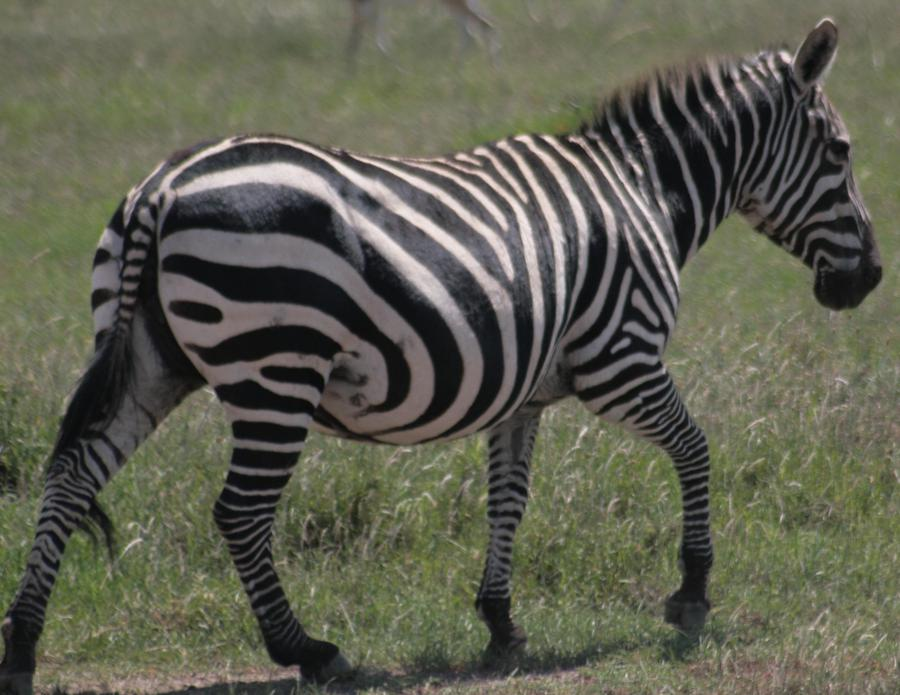zebra_plains: (172, 117, 689, 435)
